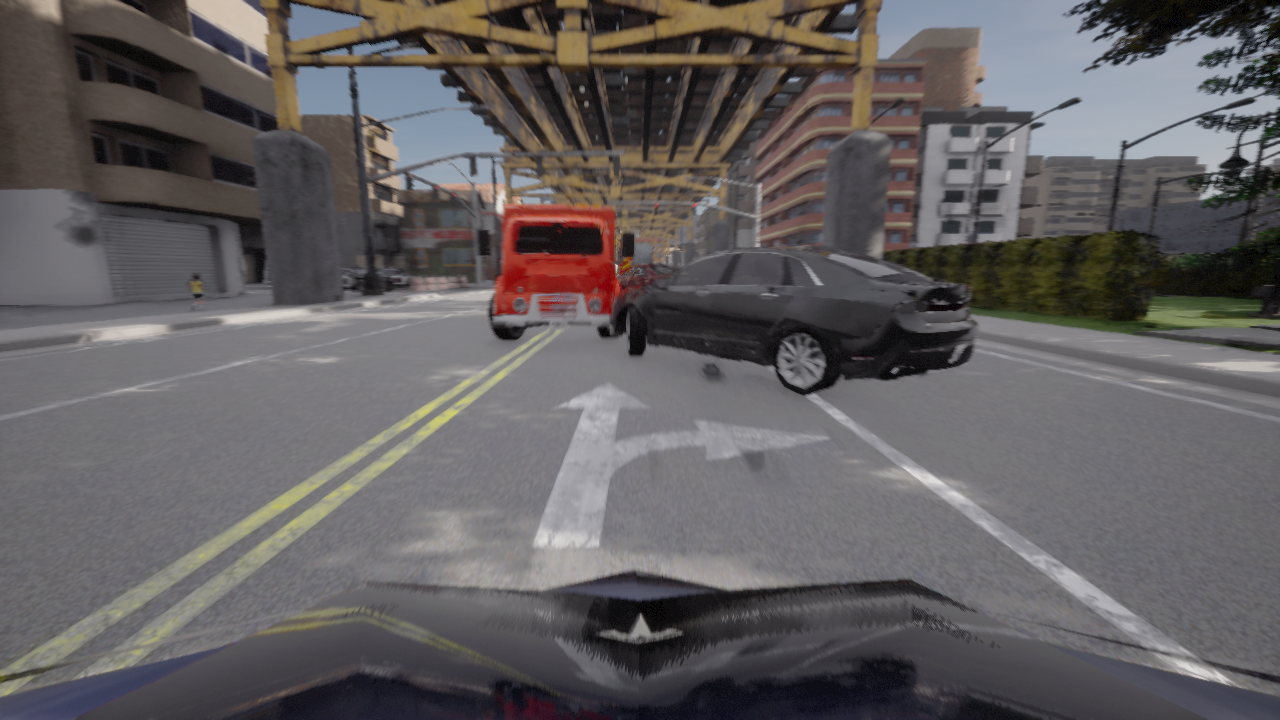cyclist: (0, 569, 1279, 719), (607, 245, 979, 395), (477, 204, 634, 340), (620, 230, 664, 274), (616, 262, 680, 291), (342, 266, 393, 291), (377, 267, 427, 286), (353, 272, 354, 273)
pedestrian: (188, 274, 205, 310)
